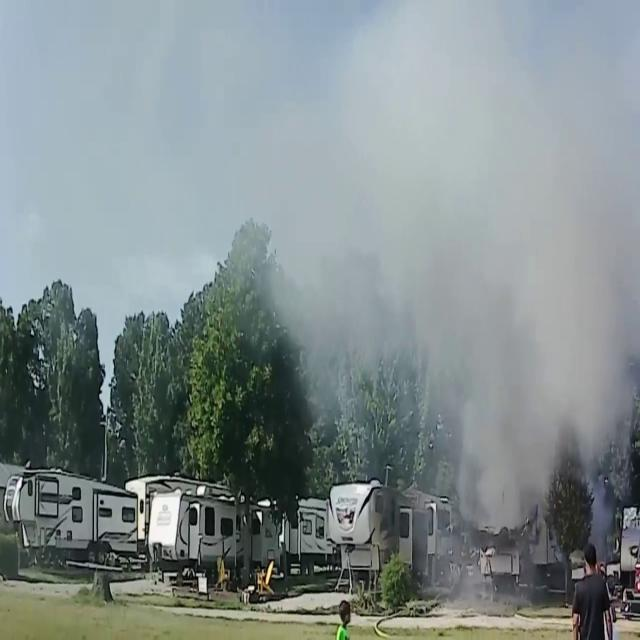Smoke: (279, 0, 640, 512)
